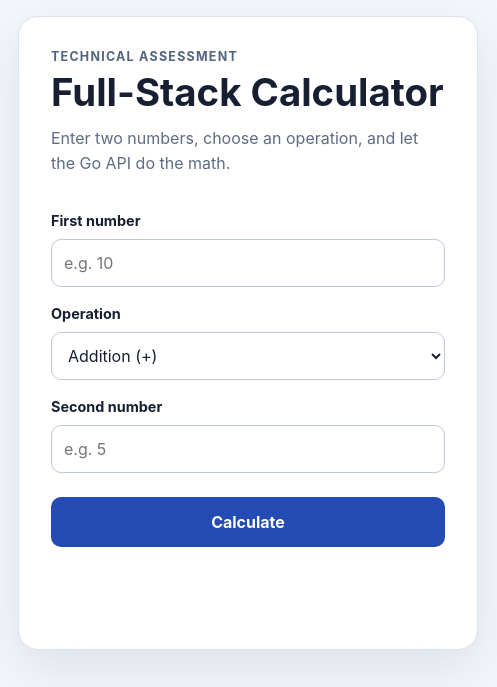
Test case: App › shows a friendly message when the API cannot be reached
The image size is (497, 687).
Type "3" into the field labelled "First number" at (248, 262), box [51,238,445,286]
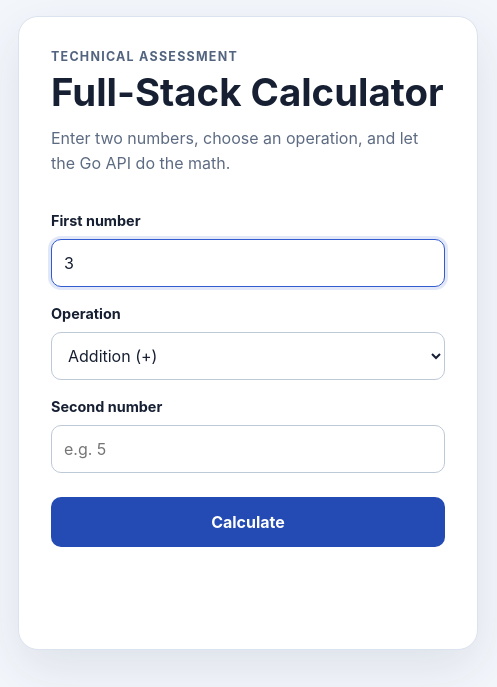
Type "4" into the field labelled "Second number" at (248, 448), box [51,424,445,472]
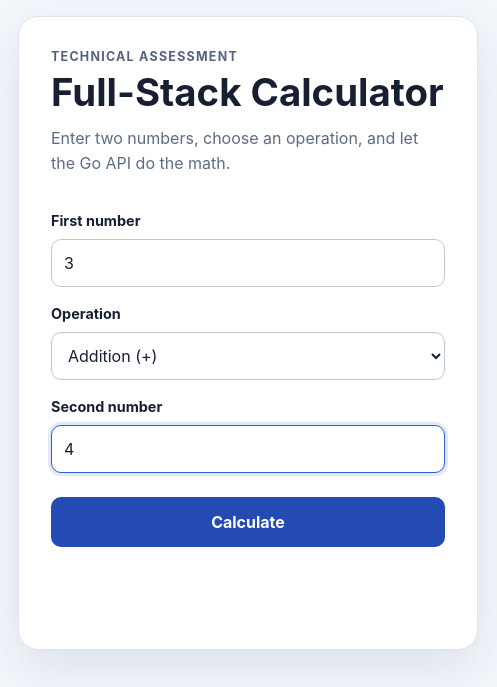
Click the button "Calculate" at (248, 522), box [51,496,445,546]
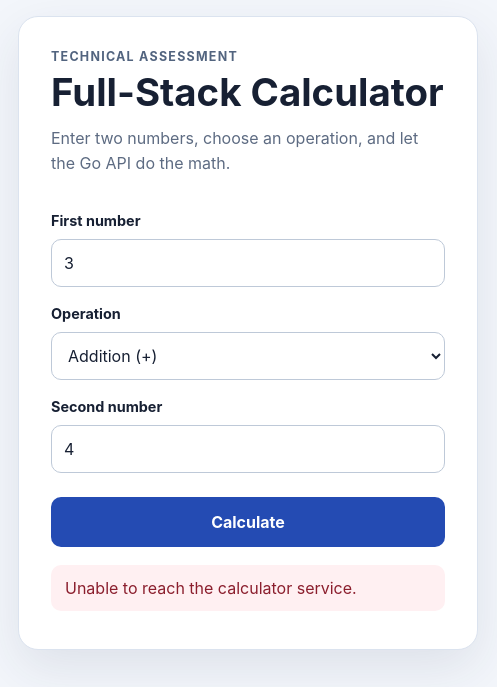
Expected: the message reads "Unable to reach the calculator service.", [65,578,357,598]
